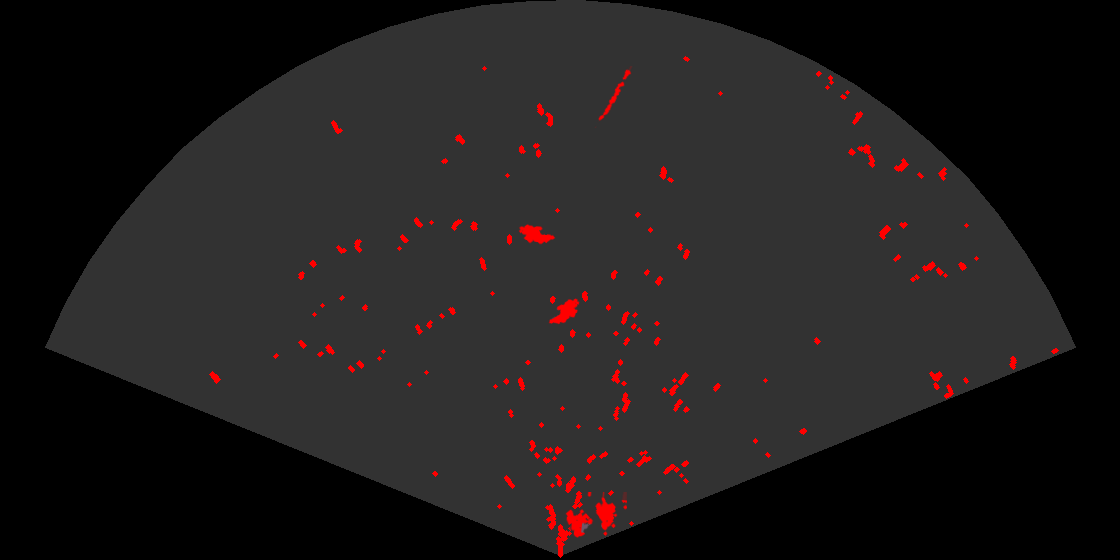AUV: (547, 297, 581, 326), (517, 223, 557, 246)
cage: (564, 492, 627, 539)
chain: (594, 66, 634, 128)
